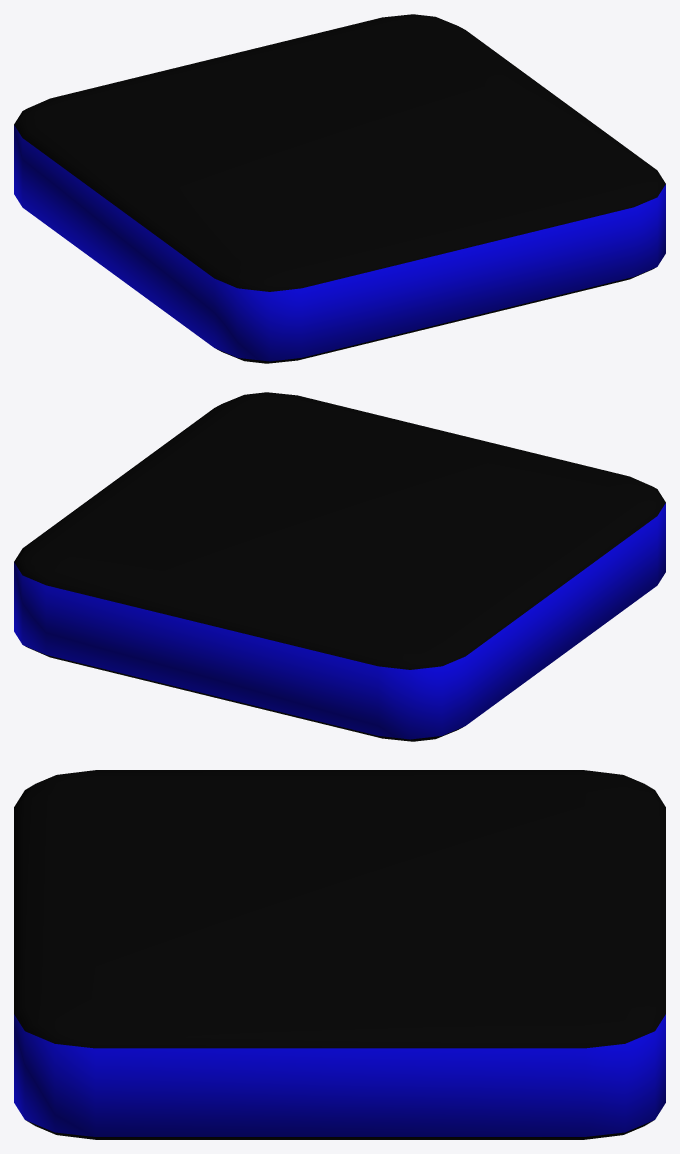
File: platform.fbx
3 renders of one model, top to bottom at view 1: azimuth 30°, elevation 25°; view 2: azimuth 150°, elevation 25°; view 3: azimuth 270°, elevation 25°, orthographic. The views are drawn at different scales.
Visible parts, largest first — view 1: Platform; view 2: Platform; view 3: Platform.
Boxes of the visible parts, x1,y1,x2,y2 form: Platform: [14, 14, 665, 363]; Platform: [14, 392, 665, 741]; Platform: [14, 770, 665, 1139].
Size of the model in its own units: 150 by 30 by 150.
